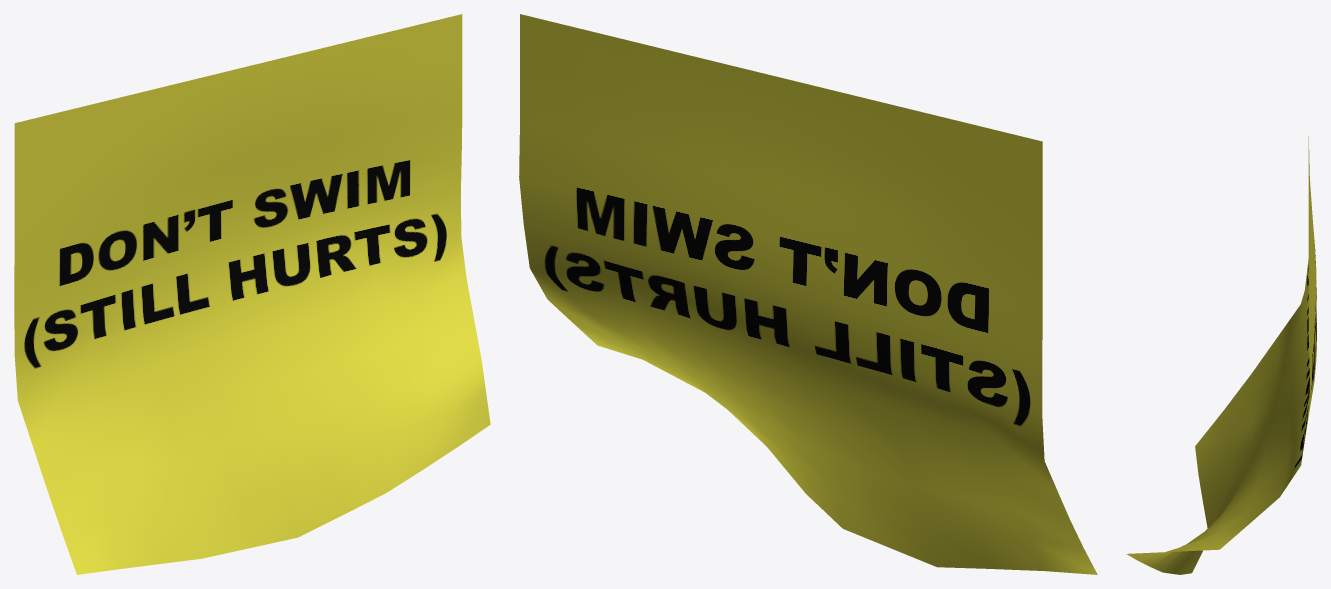
The model's file is DONTSWIM.fbx.
The picture shows the model from 3 angles, left to right: view 1: azimuth 30°, elevation 25°; view 2: azimuth 150°, elevation 25°; view 3: azimuth 270°, elevation 25°; orthographic projection. The views are drawn at different scales.
Visible parts, largest first — view 1: Plane; view 2: Plane; view 3: Plane.
Boxes of the visible parts, box(x1,y1,x2,y2) form: Plane: box(14, 14, 490, 574); Plane: box(519, 14, 1097, 574); Plane: box(1126, 136, 1316, 574).
Size of the model in its own units: 200 by 185 by 71.22.
